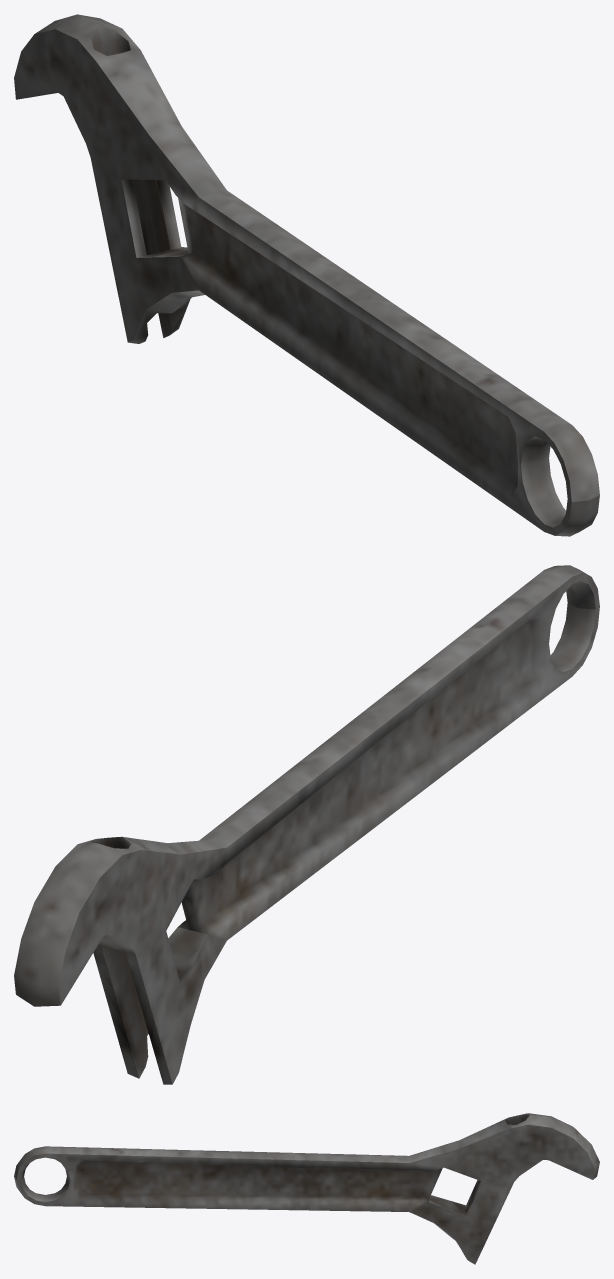
Rendered from Adjustable_Wrench_S_low.obj.
3 renders of one model, top to bottom at view 1: azimuth 30°, elevation 25°; view 2: azimuth 150°, elevation 25°; view 3: azimuth 270°, elevation 25°, orthographic. The views are drawn at different scales.
Size of the model in its own units: 0.00688 by 0.0406 by 0.1477.
1 material, 1 textured.
